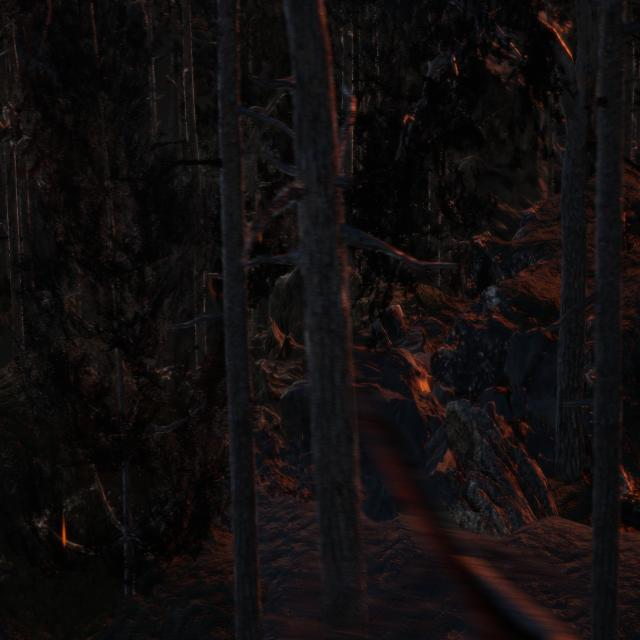Human: (371, 304, 391, 354)
